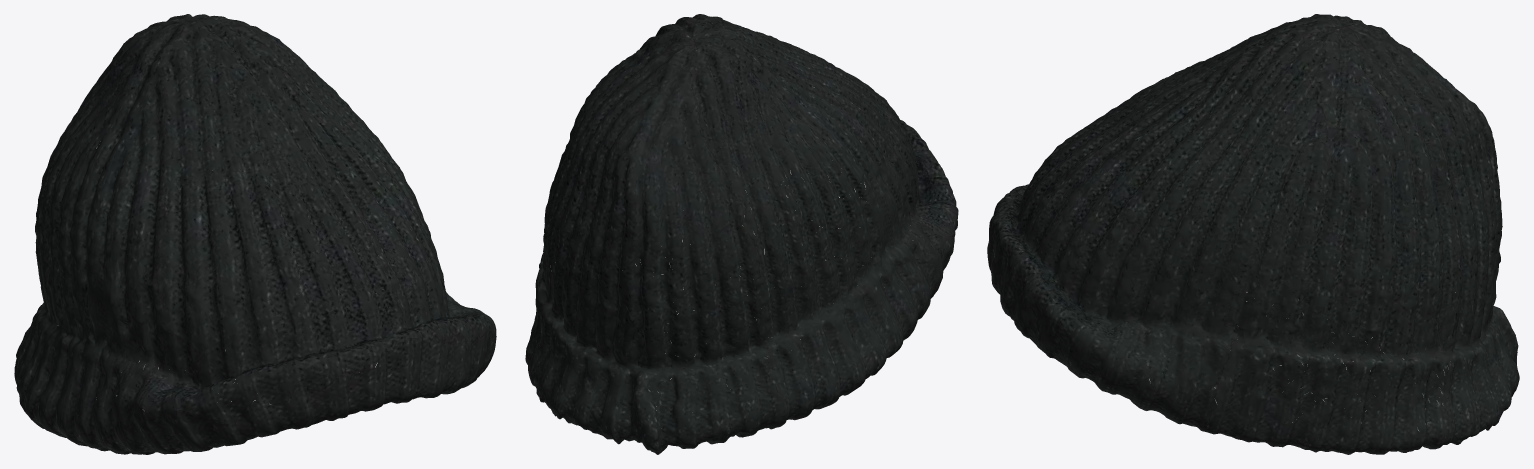
Rendered from knit_beanie.glb.
3 renders of one model, left to right at view 1: azimuth 30°, elevation 25°; view 2: azimuth 150°, elevation 25°; view 3: azimuth 270°, elevation 25°, orthographic. The views are drawn at different scales.
Visible parts, largest first — view 1: Object_2, Object_3, Object_5, Object_4; view 2: Object_5, Object_4, Object_2, Object_6, Object_3; view 3: Object_3, Object_4, Object_6, Object_5, Object_2.
Boxes of the visible parts, box(x1,y1,x2,y2) form: Object_2: box(26, 19, 495, 454); Object_3: box(150, 14, 496, 426); Object_5: box(14, 14, 200, 437); Object_4: box(14, 19, 400, 443); Object_5: box(528, 37, 934, 444); Object_4: box(528, 37, 954, 445); Object_2: box(530, 14, 958, 454); Object_6: box(525, 30, 684, 364); Object_3: box(525, 14, 944, 376); Object_3: box(989, 14, 1455, 452); Object_4: box(1197, 14, 1519, 447); Object_6: box(1242, 31, 1461, 453); Object_5: box(1269, 14, 1501, 438); Object_2: box(987, 15, 1516, 454).
Size of the model in its own units: 167 by 173 by 218.
Materials: 1 (1 with a texture image).
